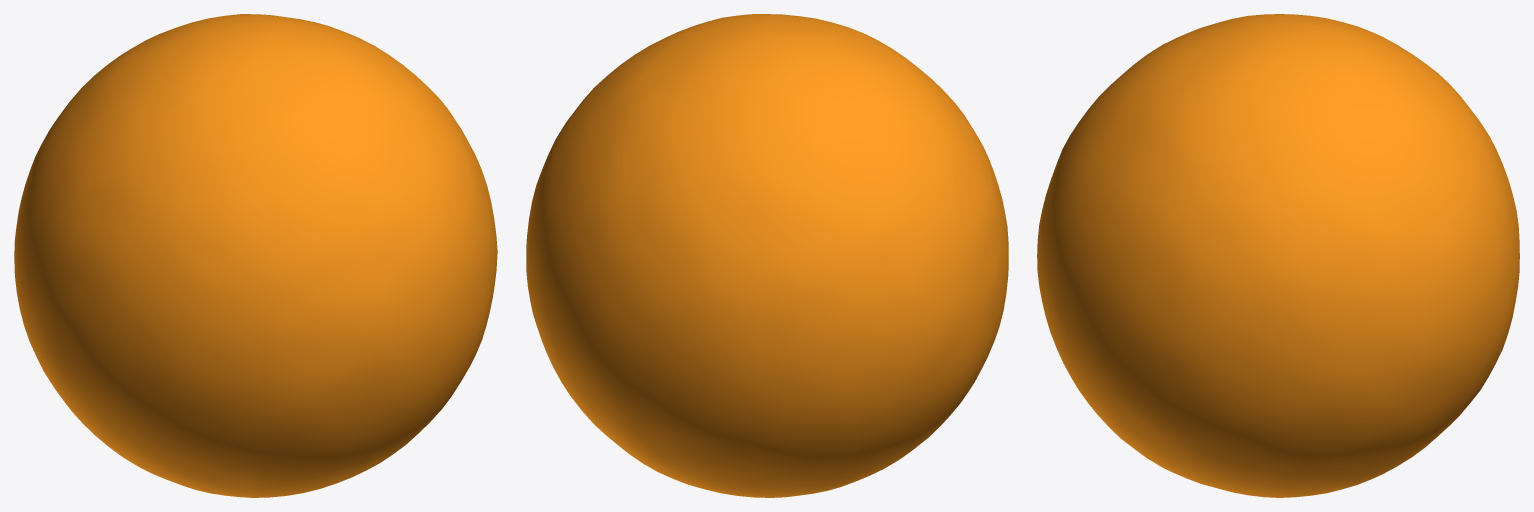
The model's file is Sol.obj.
The picture shows the model from 3 angles, left to right: view 1: azimuth 30°, elevation 25°; view 2: azimuth 150°, elevation 25°; view 3: azimuth 270°, elevation 25°; orthographic projection.
Visible parts, largest first — view 1: Sol; view 2: Sol; view 3: Sol.
Boxes of the visible parts, x1,y1,x2,y2 form: Sol: (14, 14, 497, 497); Sol: (526, 14, 1008, 497); Sol: (1037, 14, 1519, 497).
Bounding box in the file's own units: 2 × 2 × 2.
